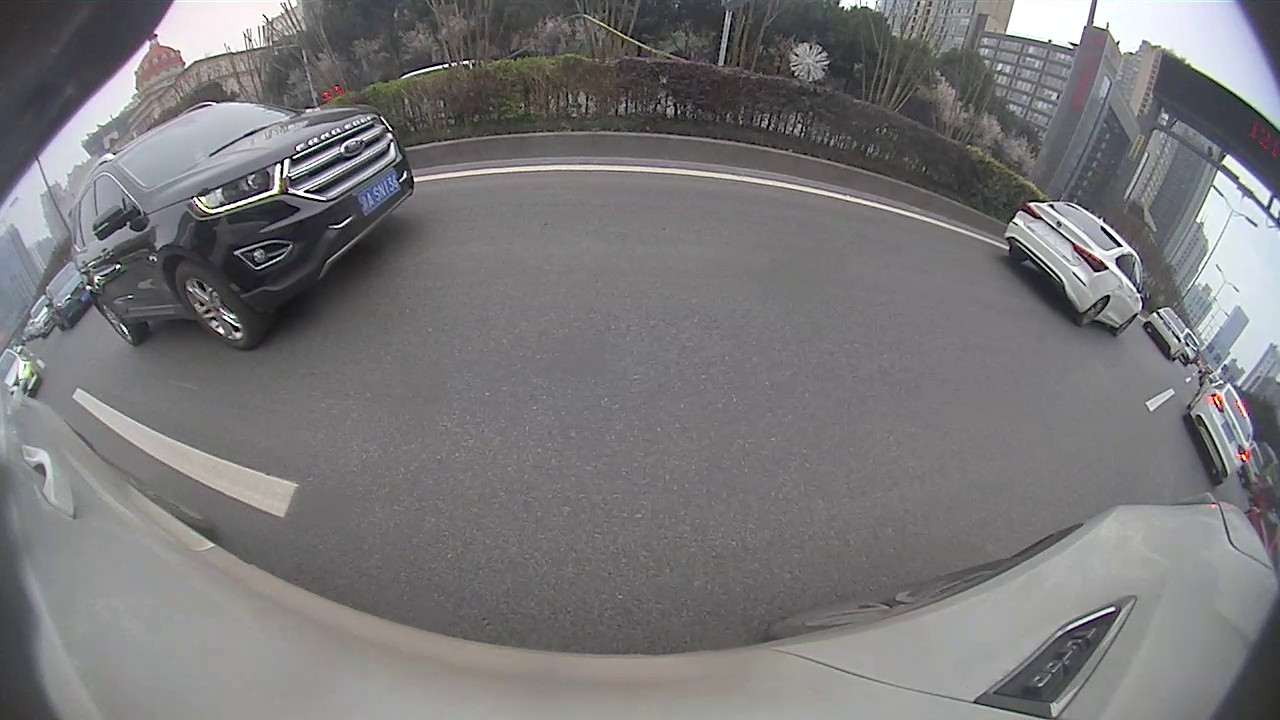car: (68, 100, 417, 353), (1003, 202, 1153, 340), (1181, 377, 1254, 487), (44, 263, 93, 330), (1141, 305, 1191, 362)
front: (172, 267, 253, 349)
rear: (98, 298, 135, 345), (1080, 300, 1108, 327)
